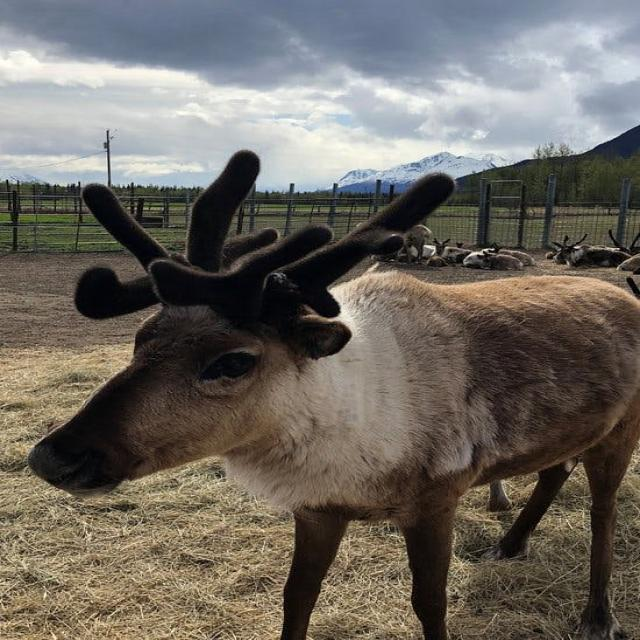Reindeer: (33, 127, 636, 636)
